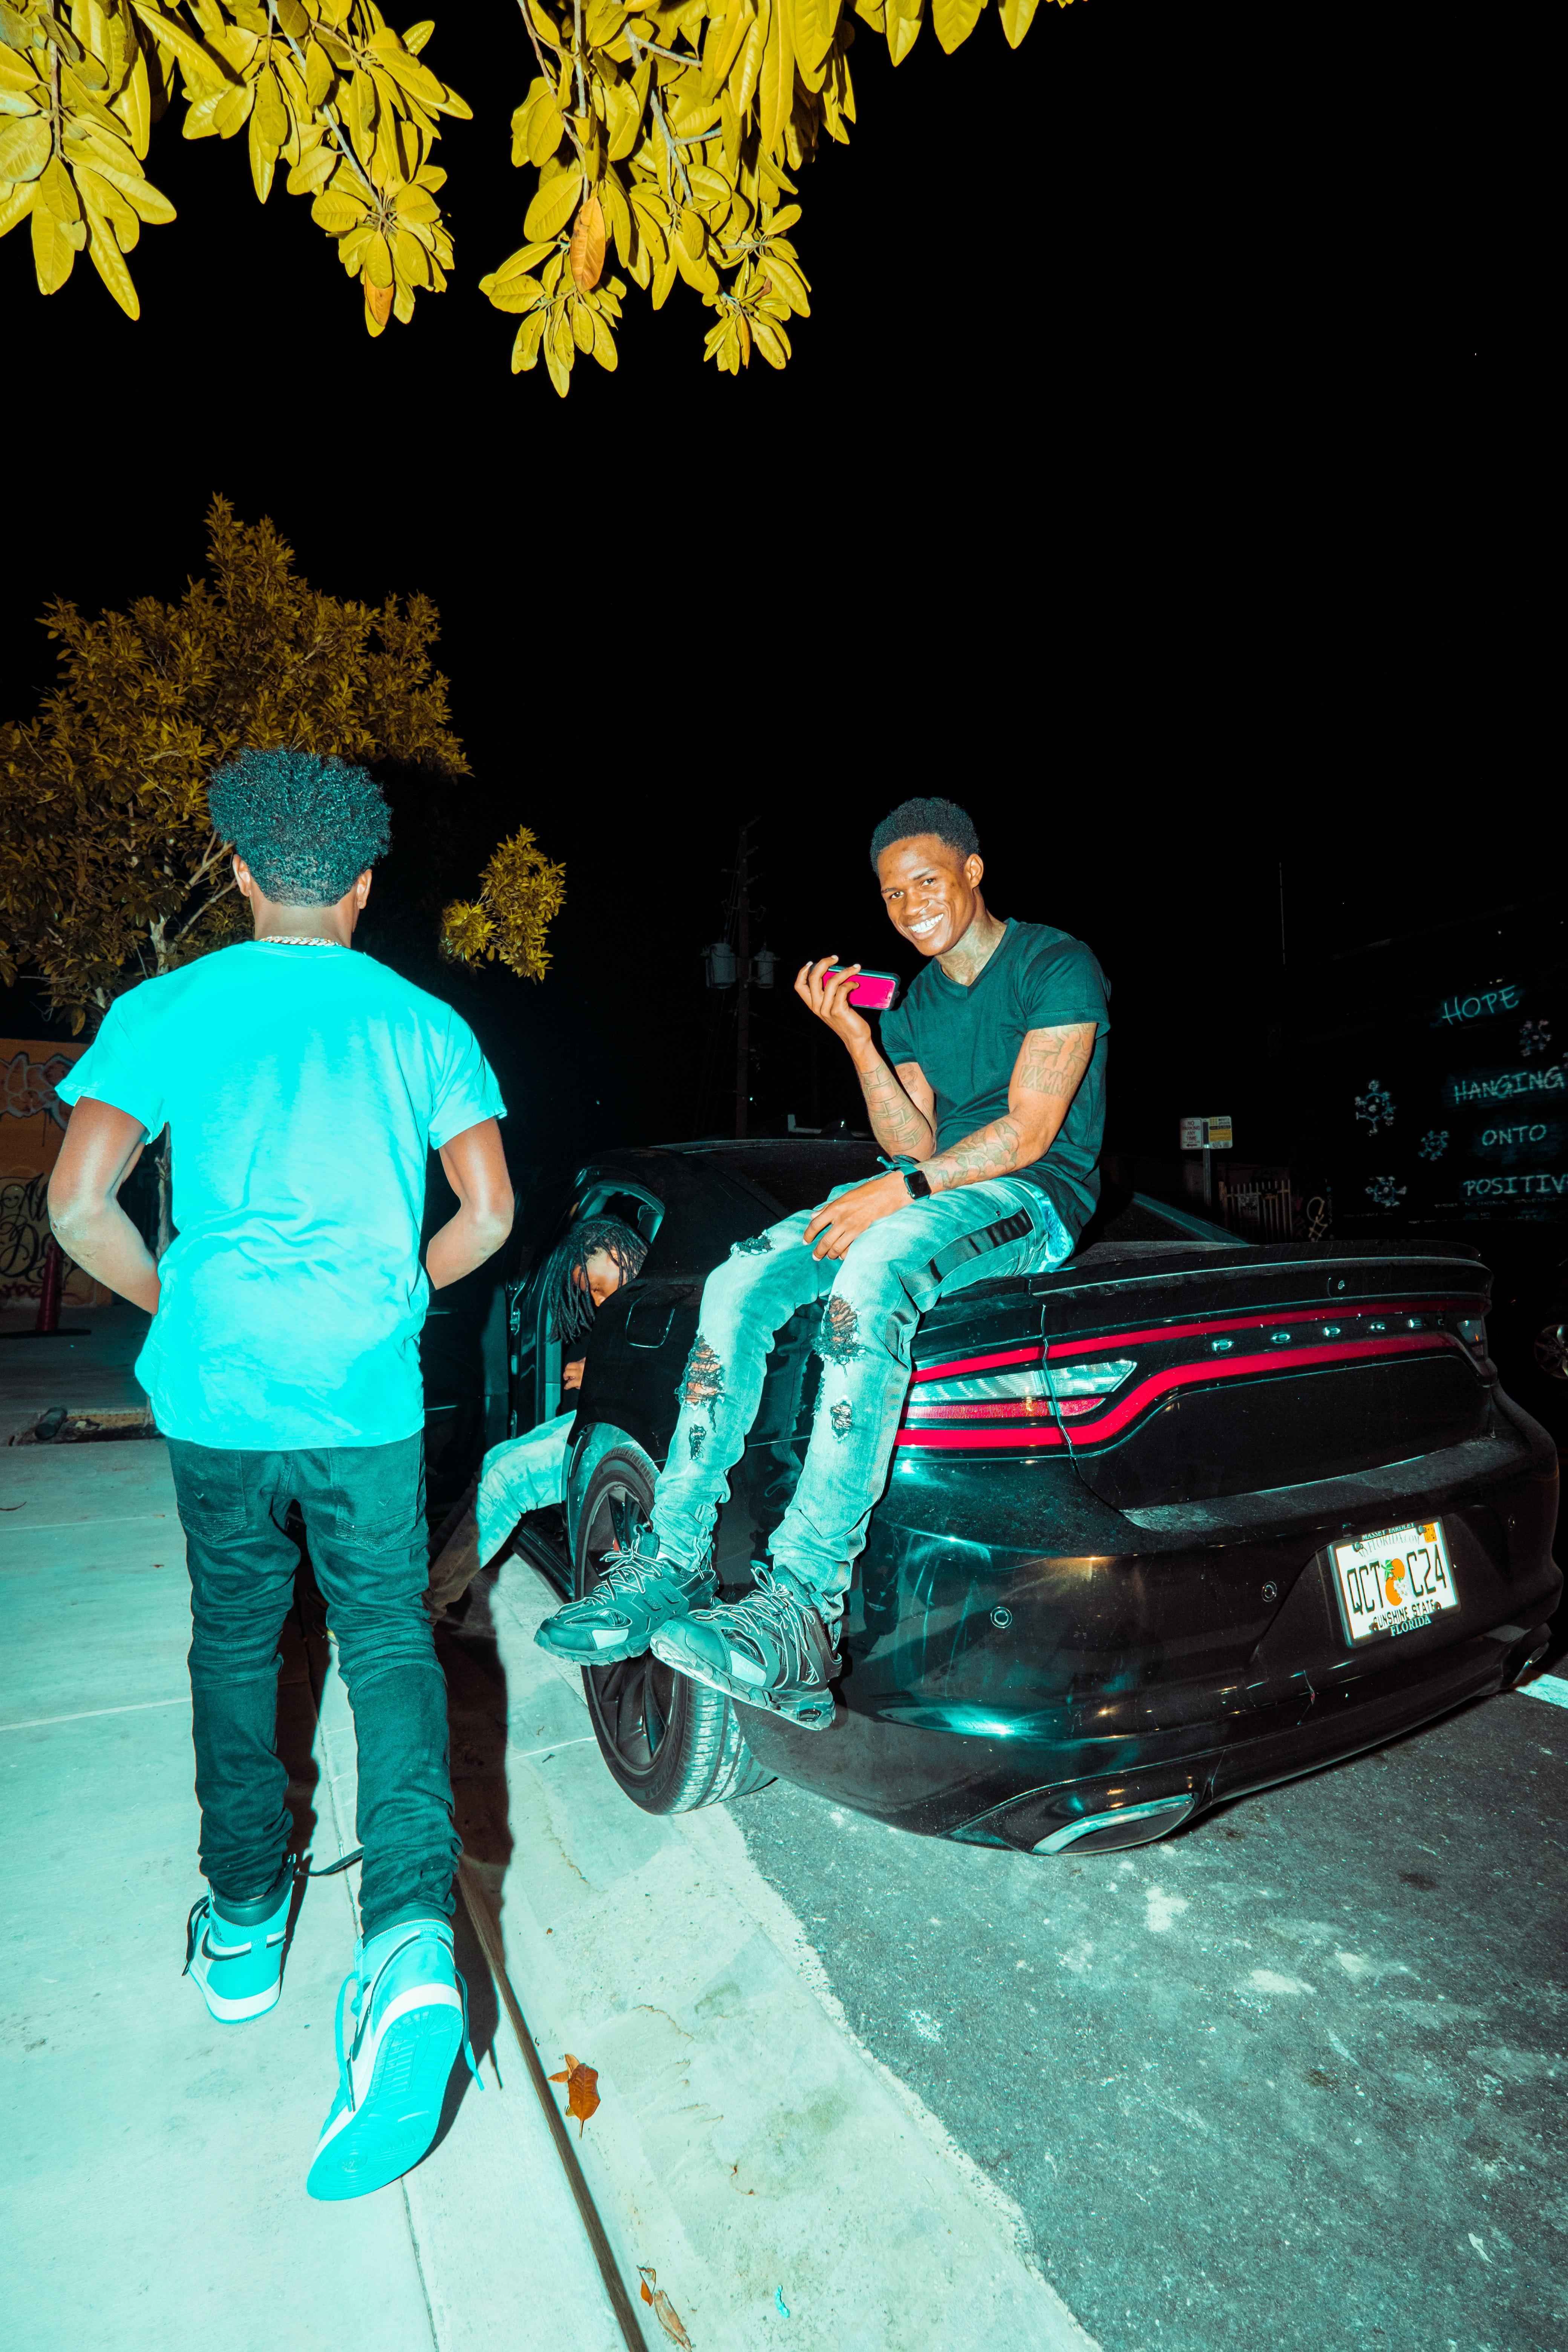dodge: (1192, 1291, 1458, 1381)
